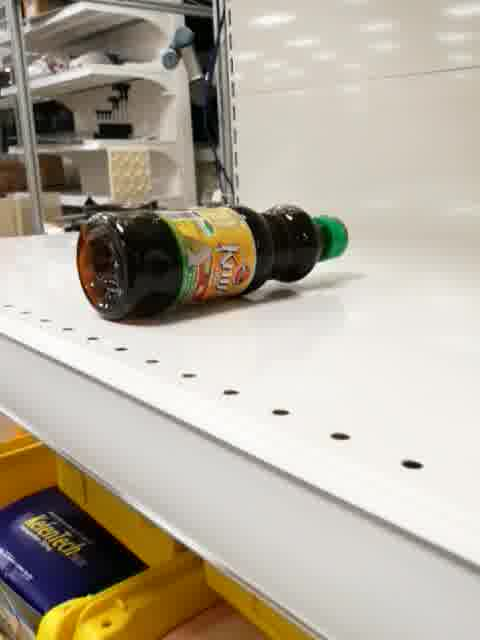cookingoil: (73, 200, 351, 325)
